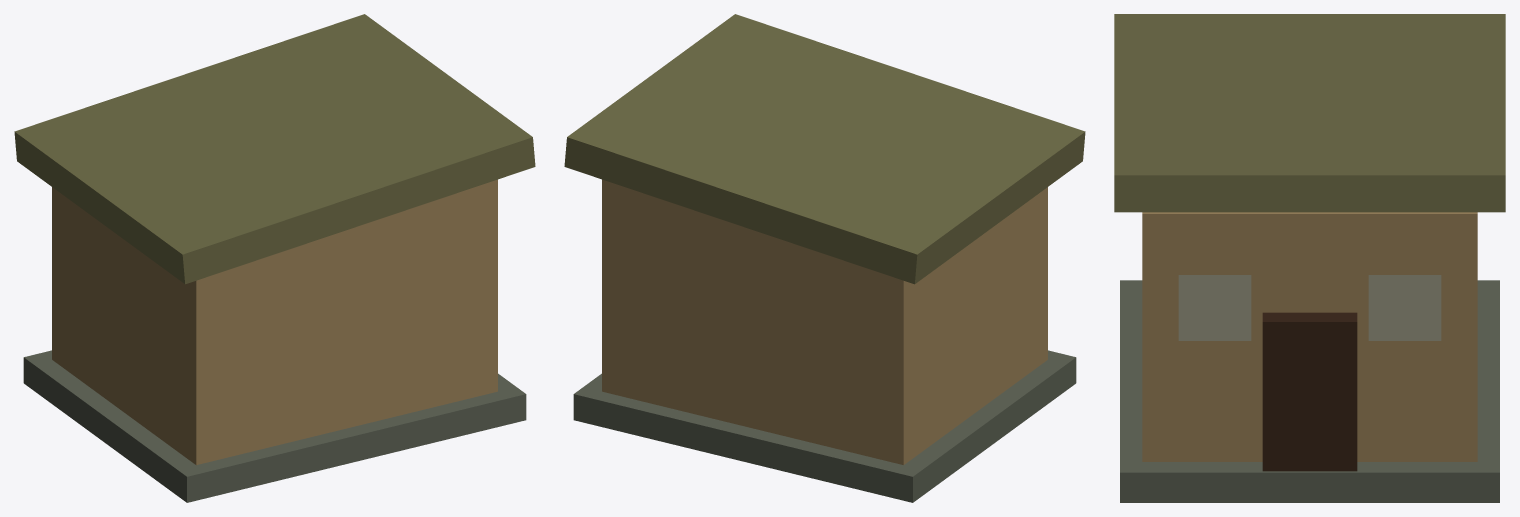
The model's file is farmhouse.glb.
3 views of the same model, side by side, from view 1: azimuth 30°, elevation 25°; view 2: azimuth 150°, elevation 25°; view 3: azimuth 270°, elevation 25° (orthographic). The views are drawn at different scales.
Visible parts, largest first — view 1: walls, roof, foundation; view 2: walls, roof, foundation; view 3: roof, walls, foundation, frontDoor, windowLeft, windowRight.
Boxes of the visible parts, x1=… form: walls: x1=52, y1=179, x2=497, y2=465; roof: x1=14, y1=14, x2=535, y2=284; foundation: x1=23, y1=350, x2=526, y2=502; walls: x1=602, y1=179, x2=1047, y2=465; roof: x1=564, y1=14, x2=1085, y2=284; foundation: x1=573, y1=350, x2=1076, y2=502; roof: x1=1114, y1=14, x2=1505, y2=212; walls: x1=1142, y1=212, x2=1477, y2=461; foundation: x1=1120, y1=280, x2=1499, y2=502; frontDoor: x1=1262, y1=312, x2=1357, y2=471; windowLeft: x1=1179, y1=275, x2=1250, y2=340; windowRight: x1=1369, y1=275, x2=1440, y2=340.
Bounding box in the file's own units: 1.7 × 1.3 × 1.4.
